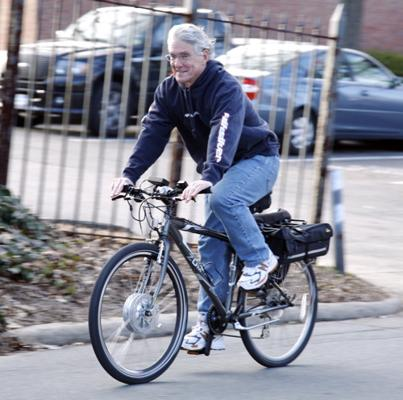person: (110, 23, 280, 353)
